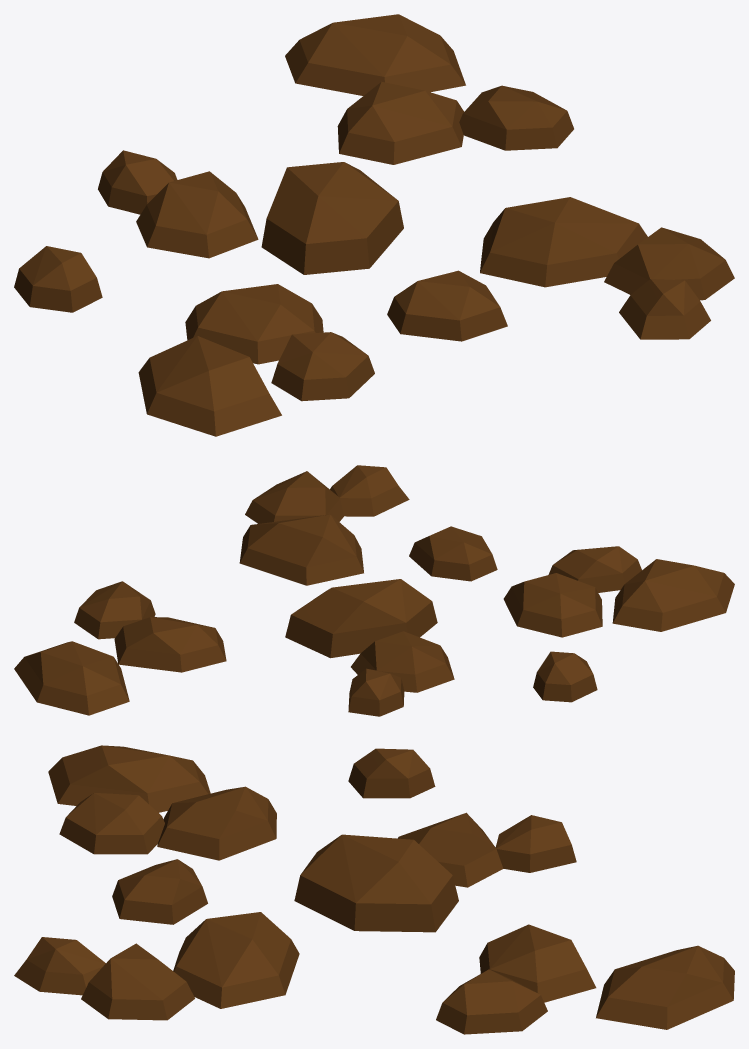
File: rock__pebbles3_dirt_dark.glb
The picture shows the model from 3 angles, top to bottom: view 1: azimuth 30°, elevation 25°; view 2: azimuth 150°, elevation 25°; view 3: azimuth 270°, elevation 25°; orthographic projection. The views are drawn at different scales.
Parts seen in each view (by area): view 1: pebbles3.dirt.dark; view 2: pebbles3.dirt.dark; view 3: pebbles3.dirt.dark.
Boxes of the visible parts, x1,y1,x2,y2 form: pebbles3.dirt.dark: (14,14,734,436); pebbles3.dirt.dark: (14,465,734,716); pebbles3.dirt.dark: (14,745,734,1034).
Size of the model in its own units: 2.31 by 0.2169 by 2.56.
Materials: 1 (1 with a texture image).
